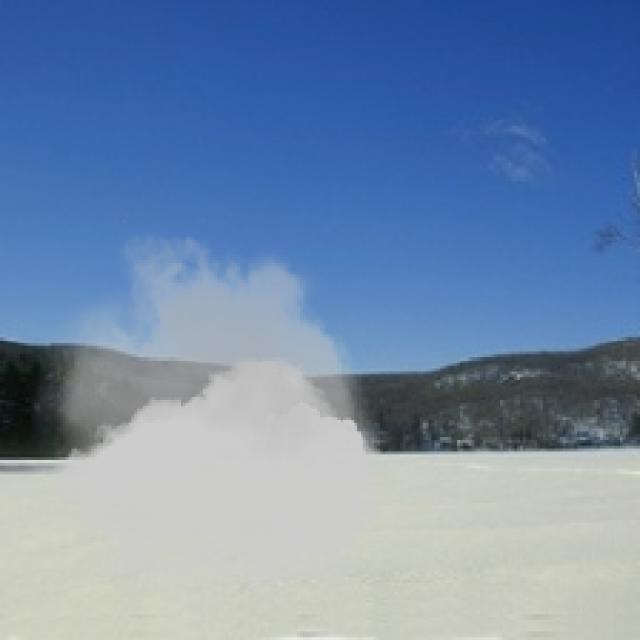smoke: (32, 211, 394, 623)
